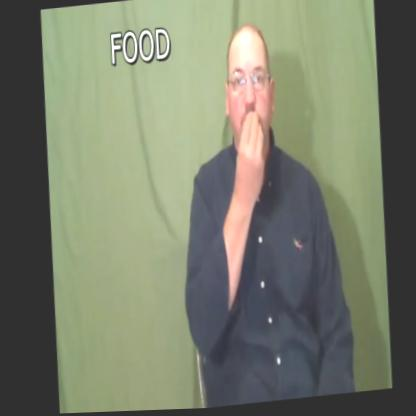Food: (216, 14, 294, 203)
